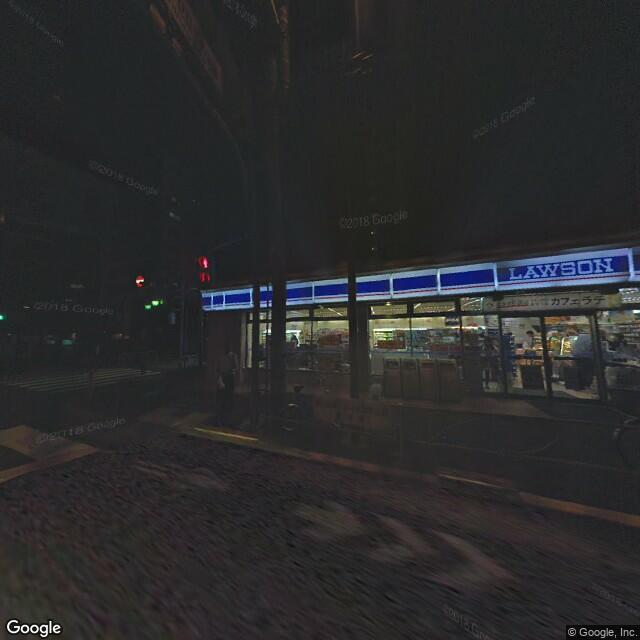lawson: (203, 241, 638, 317)
